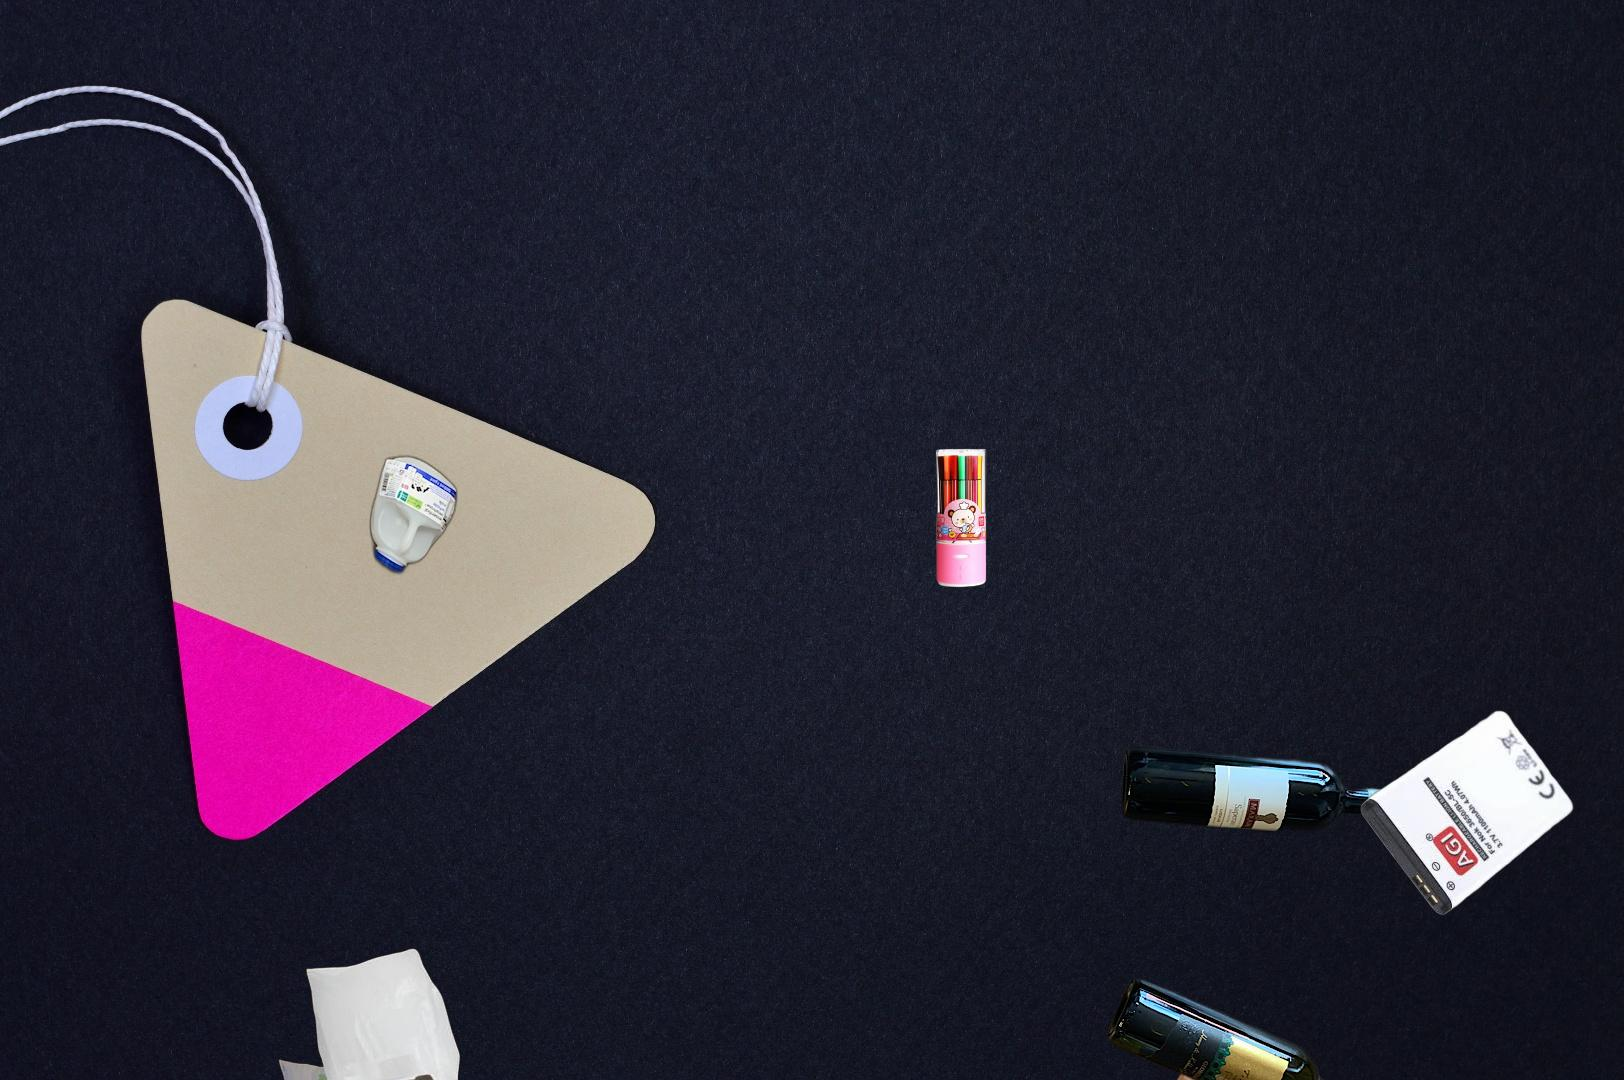battery: (1358, 708, 1577, 918)
glass: (1104, 740, 1429, 1080)
paper-bag: (1140, 1035, 1328, 1080)
penholder: (932, 446, 989, 589)
plastic-bag: (276, 945, 465, 1080)
plastic-bottles: (365, 450, 461, 579)
